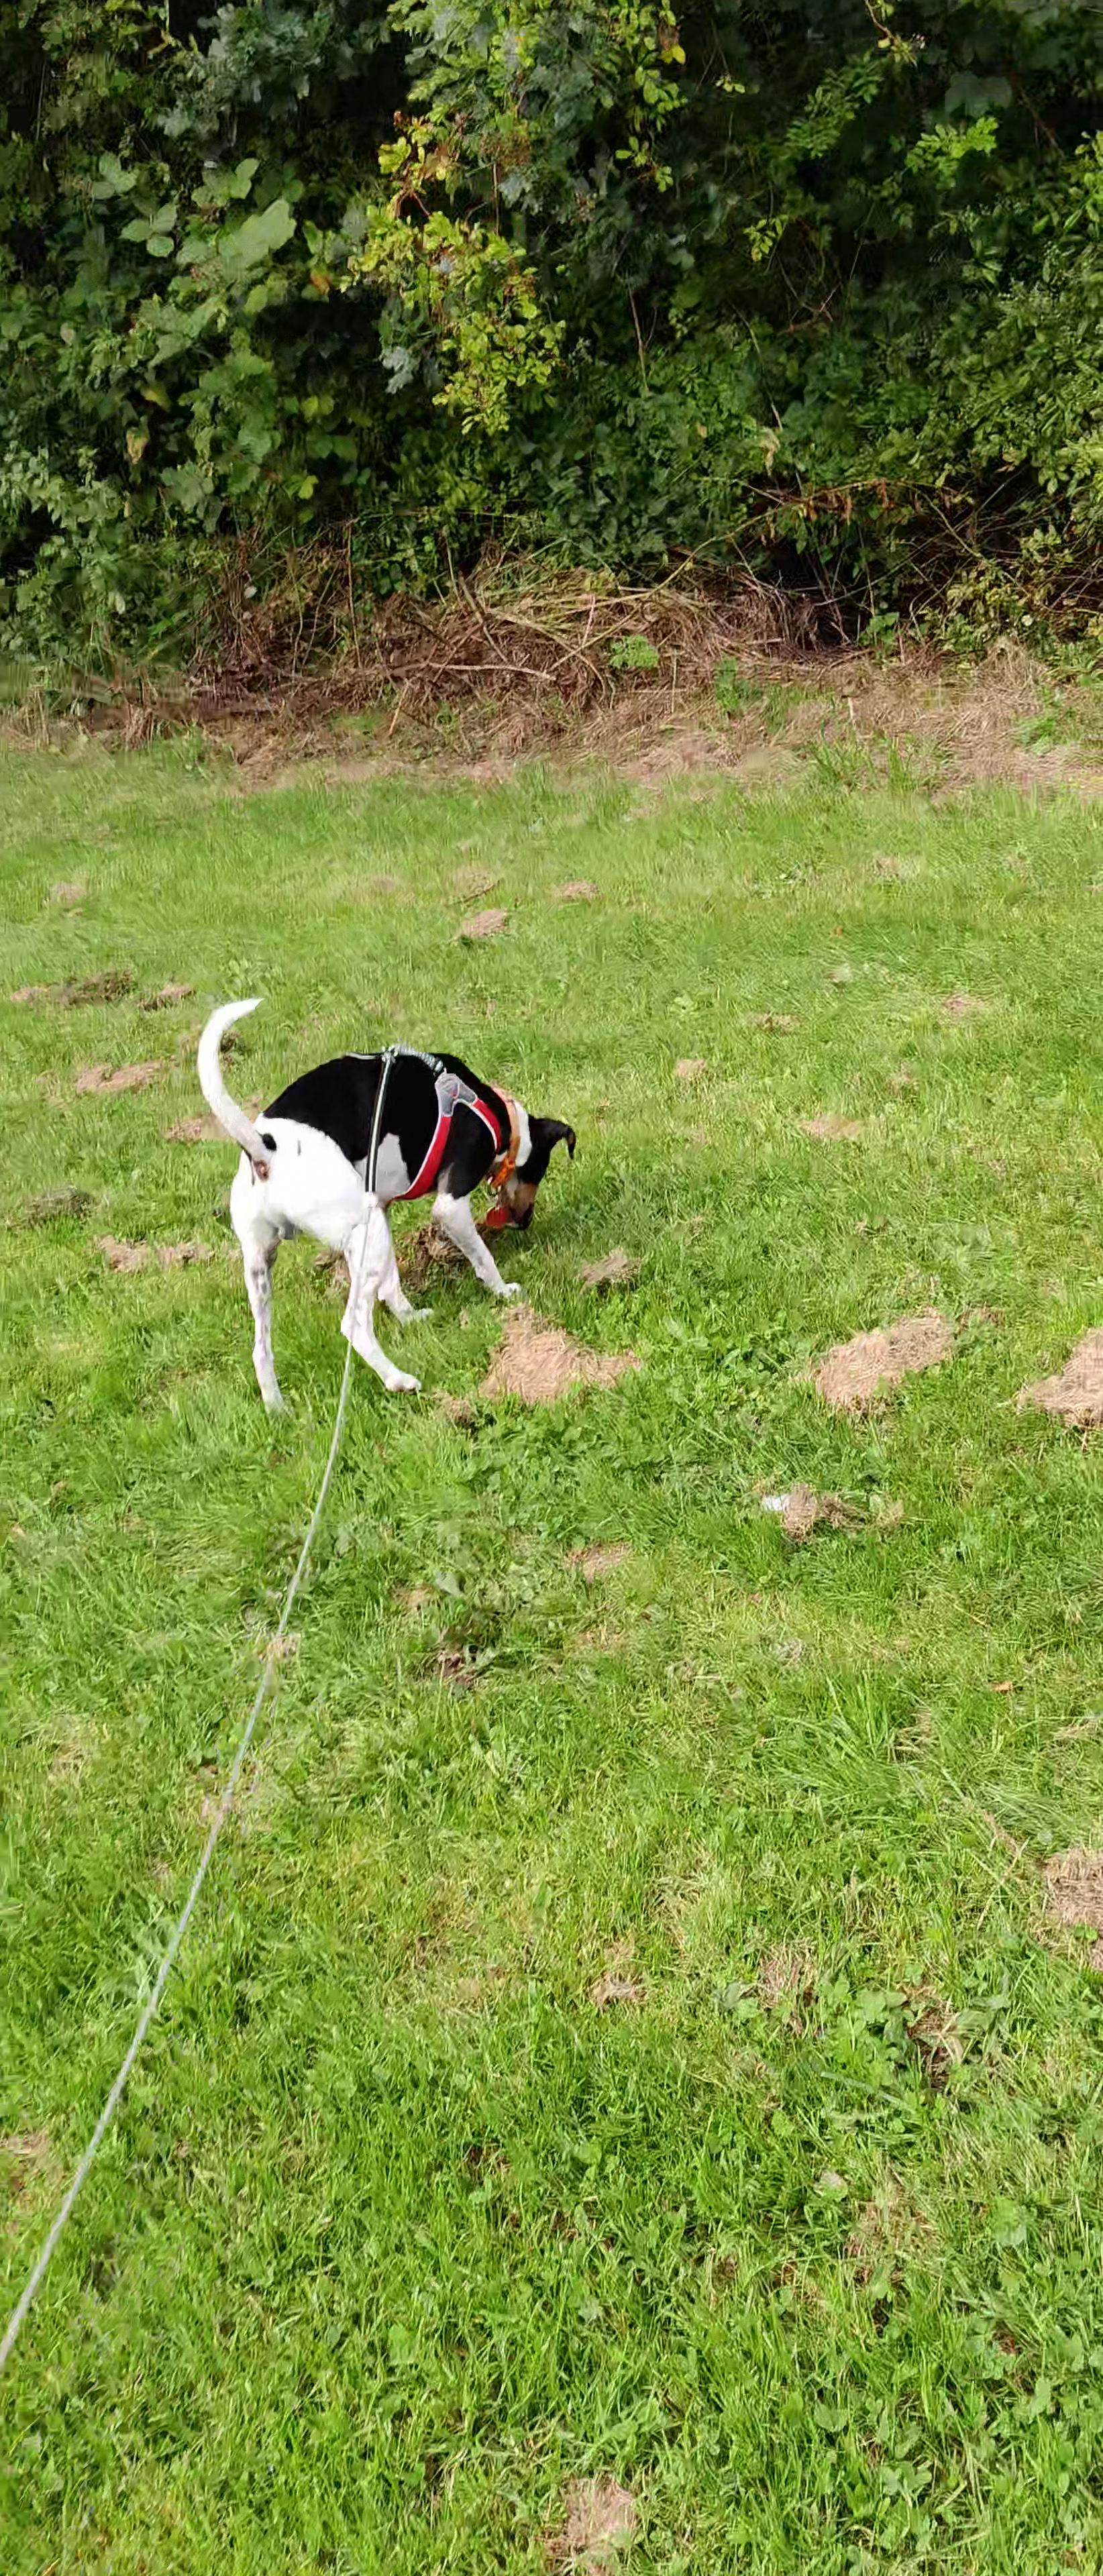Dog: (191, 992, 588, 1421)
